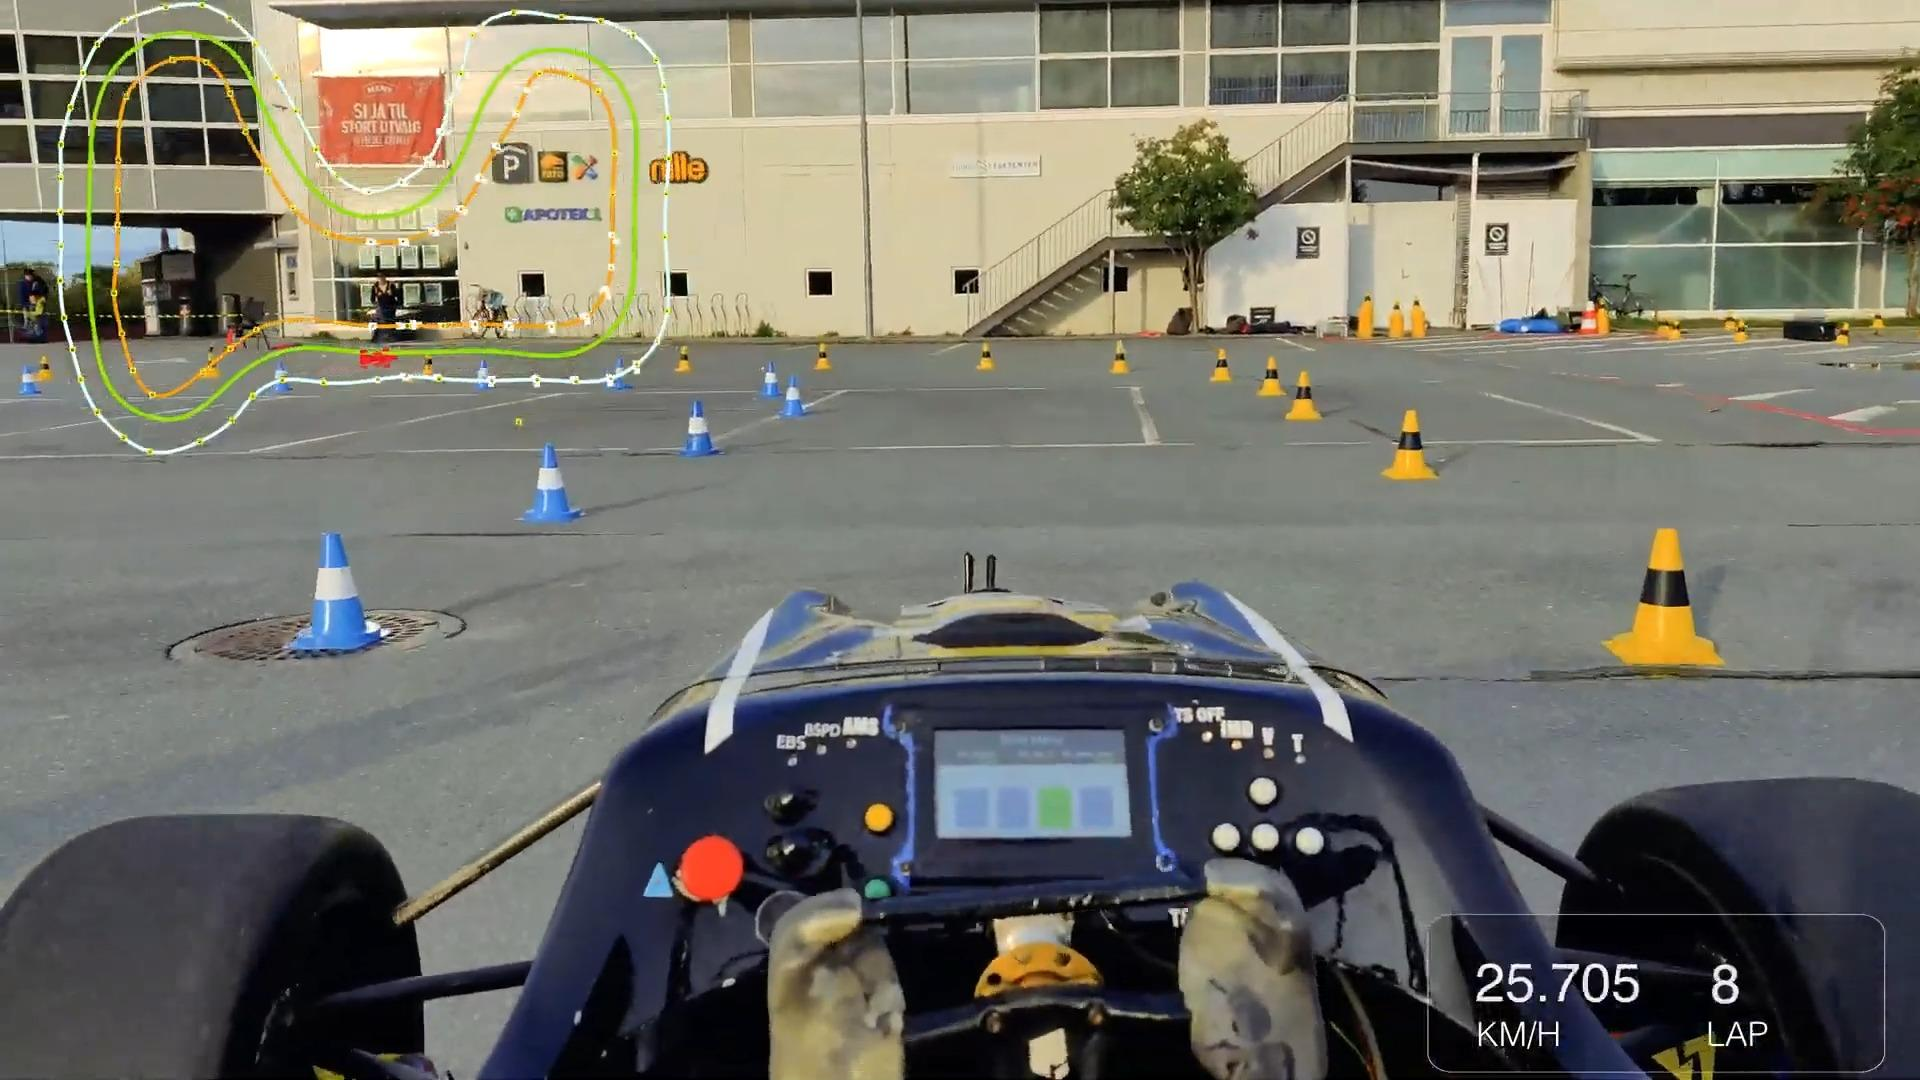blue_cone: (307, 513, 377, 654), (521, 443, 580, 533), (676, 396, 723, 460), (779, 372, 807, 415), (756, 361, 781, 402), (611, 356, 634, 393), (272, 359, 294, 392), (21, 364, 41, 400), (476, 359, 496, 392)
large_orange_cone: (1581, 298, 1601, 338)
yellow_cone: (1622, 530, 1713, 682), (1385, 402, 1445, 487), (1283, 364, 1327, 425), (1258, 351, 1290, 400), (971, 336, 1006, 372), (804, 332, 839, 369), (1208, 334, 1232, 385), (1108, 334, 1137, 372), (421, 349, 439, 385), (676, 344, 696, 375), (37, 355, 55, 385)
